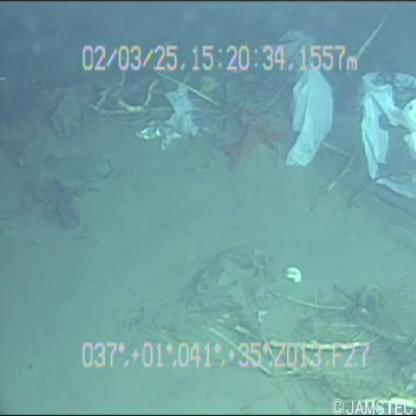Rác: (240, 31, 336, 187), (351, 52, 416, 200), (131, 80, 208, 158)
